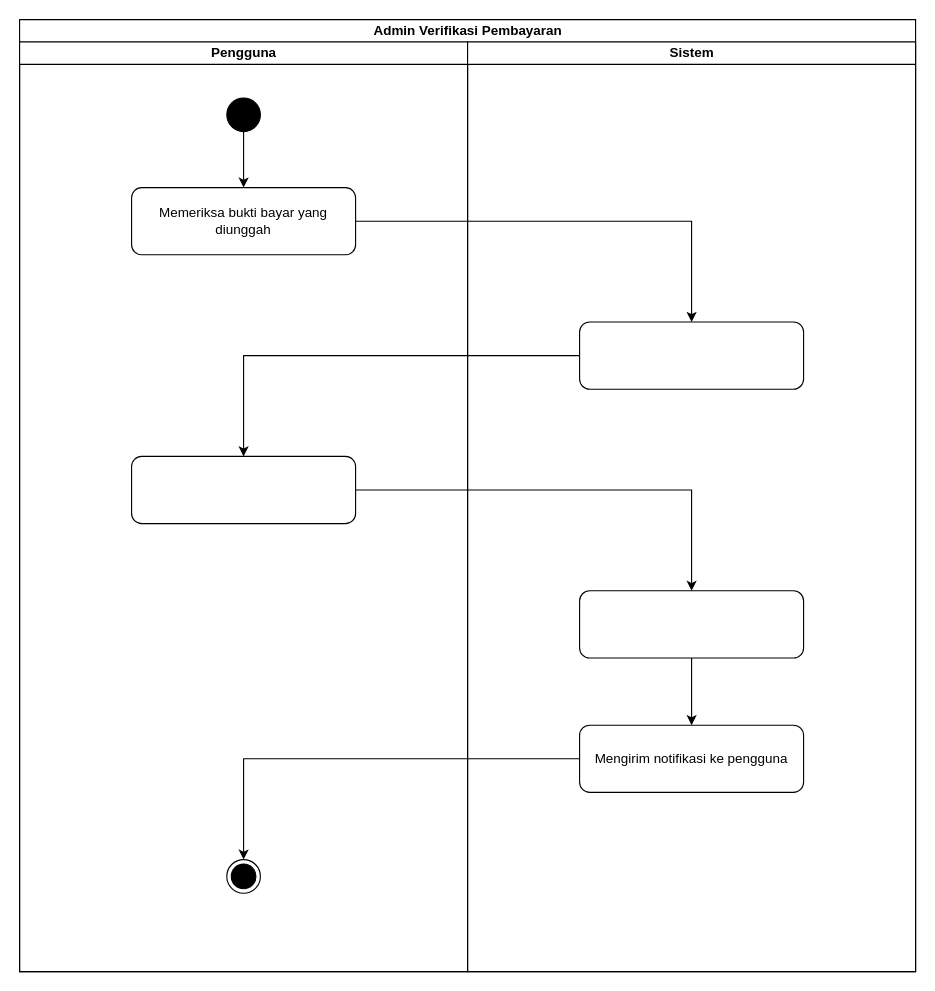
Some shapes in this 935 by 991 pixel diagram are drawn without their labels. Here are the shapes that lost their labels. From the top down, the centre of each, then its label:
pixel 691 355: Menampilkan daftar bukti bayar
pixel 243 489: Klik verifikasi/tolak
pixel 691 624: Memperbarui status pesanan menjadi 'Dikonfirmasi'
